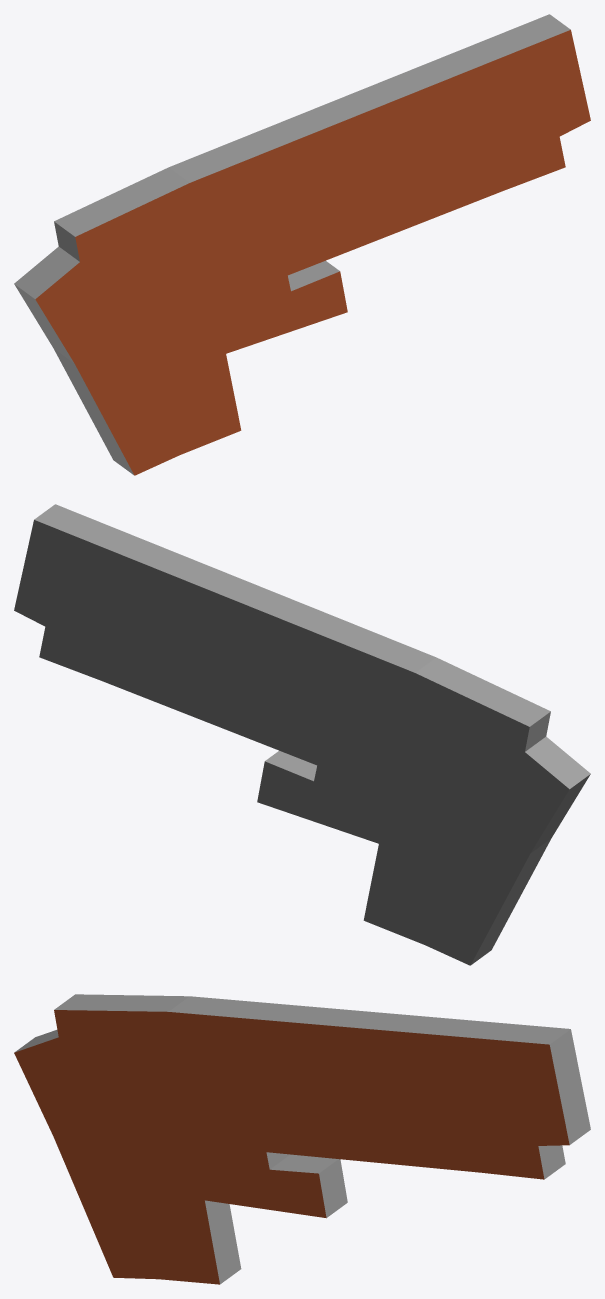
File: construction_7081_assumed_A_Casa_h6m.obj
3 renders of one model, top to bottom at view 1: azimuth 30°, elevation 25°; view 2: azimuth 150°, elevation 25°; view 3: azimuth 330°, elevation 25°, orthographic.
Visible parts, largest first — view 1: construction_7081_assumed_A_Casa; view 2: construction_7081_assumed_A_Casa; view 3: construction_7081_assumed_A_Casa.
Boxes of the visible parts, bbox=[...] form: construction_7081_assumed_A_Casa: bbox=[14, 14, 590, 475]; construction_7081_assumed_A_Casa: bbox=[14, 504, 590, 965]; construction_7081_assumed_A_Casa: bbox=[14, 994, 590, 1284].
Bounding box in the file's own units: 90.39 × 52.79 × 6.
